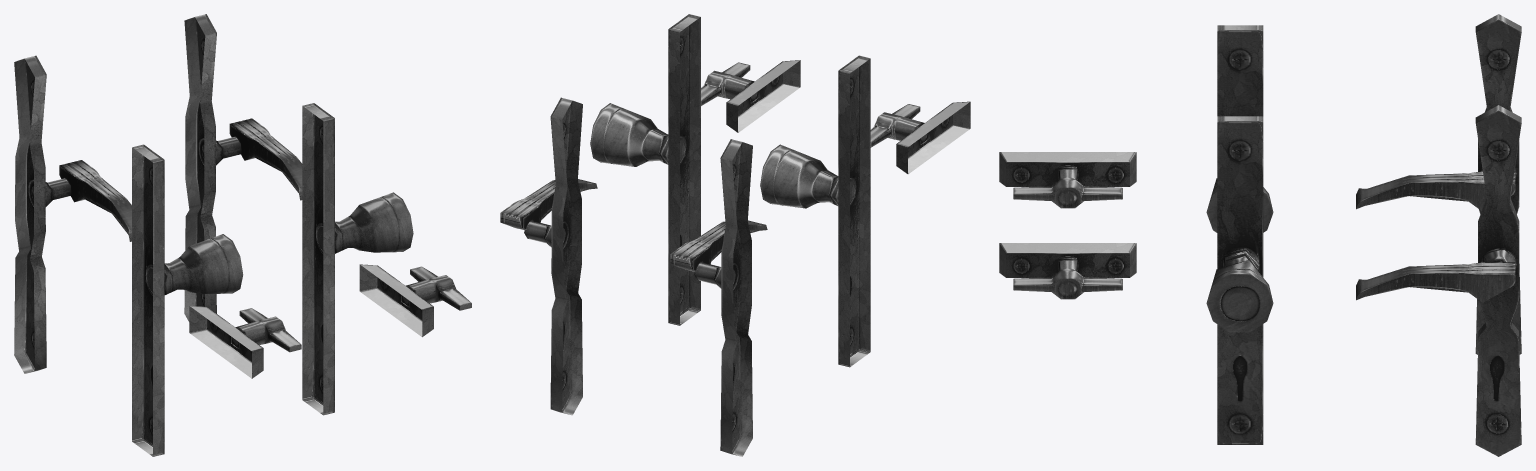
The model's file is handles.fbx.
The picture shows the model from 3 angles, left to right: view 1: azimuth 30°, elevation 25°; view 2: azimuth 150°, elevation 25°; view 3: azimuth 270°, elevation 25°; orthographic projection. The views are drawn at different scales.
Parts seen in each view (by area): view 1: handle_A_F, handle_B_F, handle_A_1, handle_B_1, handle_window_F, handle_A_2, handle_B_2, handle_window_1, handle_window_2; view 2: handle_A_F, handle_B_F, handle_B_1, handle_A_1, handle_window_F, handle_A_2, handle_window_1, handle_B_2, handle_window_2; view 3: handle_B_1, handle_A_1, handle_B_F, handle_window_F, handle_A_F, handle_B_2, handle_window_1, handle_A_2, handle_window_2.
Part boxes in pixels (x1,y1,x2,y2): handle_A_F: [132, 144, 243, 456]; handle_B_F: [14, 55, 131, 373]; handle_A_1: [302, 103, 334, 415]; handle_B_1: [184, 14, 216, 321]; handle_window_F: [189, 306, 301, 378]; handle_A_2: [335, 192, 413, 253]; handle_B_2: [216, 118, 302, 200]; handle_window_1: [359, 264, 433, 337]; handle_window_2: [401, 266, 471, 310]; handle_A_F: [760, 55, 870, 367]; handle_B_F: [670, 139, 767, 456]; handle_B_1: [550, 97, 582, 415]; handle_A_1: [668, 14, 700, 325]; handle_window_F: [870, 101, 970, 174]; handle_A_2: [590, 103, 668, 166]; handle_window_1: [726, 60, 800, 132]; handle_B_2: [500, 179, 597, 247]; handle_window_2: [701, 62, 759, 105]; handle_B_1: [1475, 105, 1521, 456]; handle_A_1: [1217, 116, 1263, 444]; handle_B_F: [1356, 14, 1521, 354]; handle_window_F: [999, 152, 1136, 208]; handle_A_F: [1206, 25, 1273, 232]; handle_B_2: [1356, 247, 1517, 302]; handle_window_1: [999, 243, 1136, 277]; handle_A_2: [1206, 247, 1273, 332]; handle_window_2: [1013, 257, 1122, 299].
Size of the model in its own units: 7.52 by 8.86 by 12.13.
